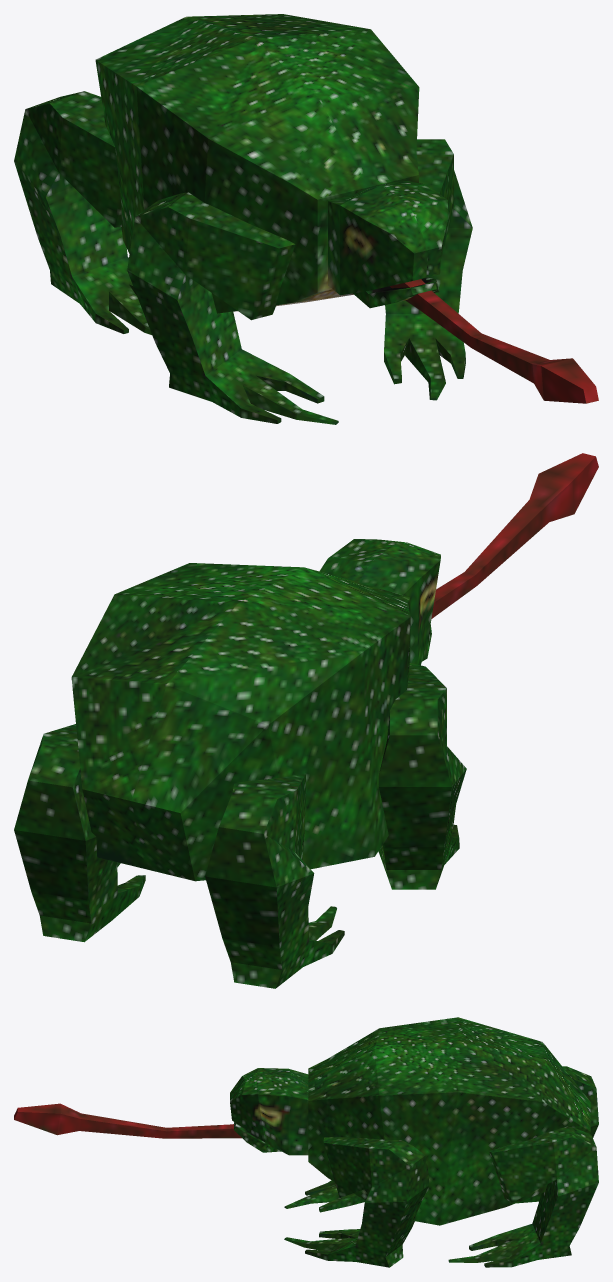
File: aglebemu.obj
3 views of the same model, one above another, from view 1: azimuth 30°, elevation 25°; view 2: azimuth 150°, elevation 25°; view 3: azimuth 270°, elevation 25° (orthographic). The views are drawn at different scales.
Visible parts, largest first — view 1: Body, LegRightFront, LegRightBack, Head, LegLeftFront, Tongue, Mouth; view 2: Body, LegRightBack, LegLeftBack, LegRightFront, Head, Tongue; view 3: Body, LegLeftBack, LegLeftFront, Head, Tongue, LegRightFront, LegRightBack, Mouth.
Part boxes in pixels (bbox=[...]): Body: bbox=[95, 14, 419, 313]; LegRightFront: bbox=[127, 192, 338, 424]; LegRightBack: bbox=[14, 91, 151, 334]; Head: bbox=[328, 181, 448, 295]; LegLeftFront: bbox=[384, 139, 472, 400]; Tongue: bbox=[390, 279, 598, 403]; Mouth: bbox=[353, 276, 439, 308]; Body: bbox=[71, 563, 410, 881]; LegRightBack: bbox=[205, 774, 344, 988]; LegLeftBack: bbox=[14, 724, 145, 942]; LegRightFront: bbox=[378, 663, 466, 889]; Head: bbox=[319, 539, 440, 665]; Tongue: bbox=[431, 453, 598, 618]; Body: bbox=[308, 1017, 590, 1225]; LegLeftBack: bbox=[448, 1126, 598, 1267]; LegLeftFront: bbox=[284, 1137, 428, 1267]; Head: bbox=[230, 1068, 308, 1155]; Tongue: bbox=[14, 1103, 241, 1138]; LegRightFront: bbox=[284, 1180, 365, 1212]; LegRightBack: bbox=[516, 1066, 598, 1203]; Mouth: bbox=[234, 1122, 281, 1152].
Bounding box in the file's own units: 1.27 × 1.02 × 2.97.
